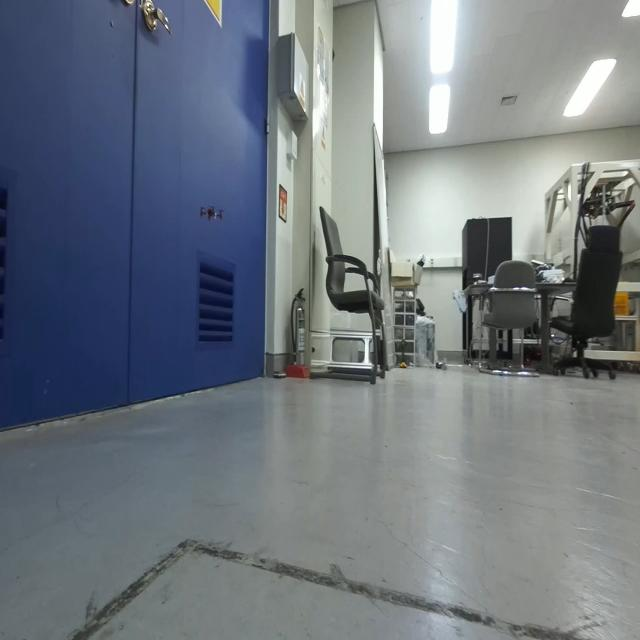crazyflie: (196, 195, 227, 233)
